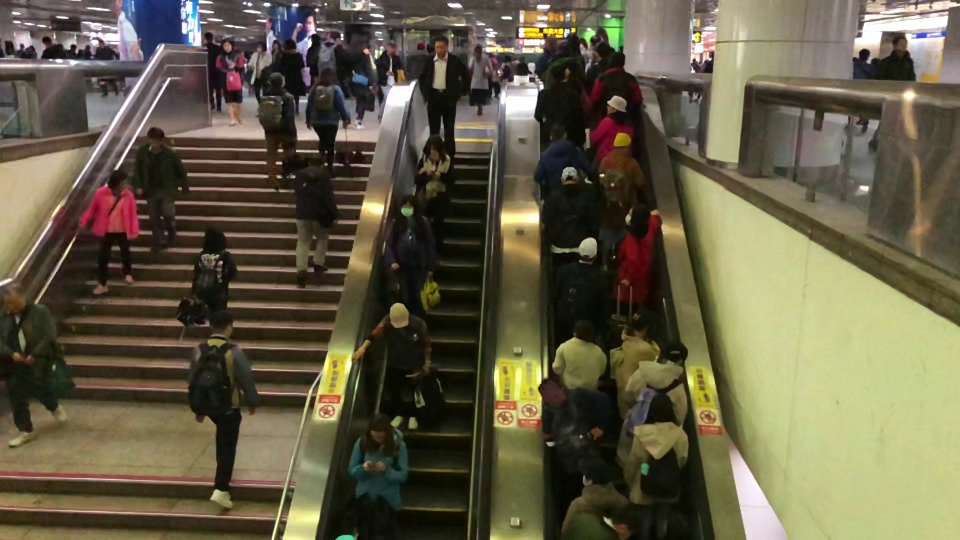person_head: (577, 455, 614, 485), (614, 504, 642, 539), (646, 394, 677, 424), (535, 377, 564, 408), (622, 203, 650, 232), (367, 413, 392, 445), (2, 282, 27, 313), (661, 339, 689, 364), (203, 225, 228, 251), (210, 309, 233, 335), (578, 236, 598, 263), (389, 301, 409, 327), (572, 318, 594, 341), (423, 134, 444, 158), (633, 309, 651, 337), (399, 193, 417, 218), (108, 169, 128, 190), (605, 94, 627, 113), (146, 126, 165, 147), (559, 165, 579, 184), (613, 132, 632, 151), (548, 122, 567, 140), (889, 36, 909, 53), (319, 65, 337, 83), (433, 34, 448, 55), (609, 51, 626, 69), (305, 151, 323, 167), (268, 70, 283, 88), (594, 42, 609, 59), (384, 39, 398, 55), (549, 67, 563, 83), (221, 37, 234, 53), (350, 34, 363, 50), (543, 36, 556, 51), (567, 34, 579, 49), (284, 38, 296, 51), (566, 65, 578, 78), (858, 49, 870, 62), (558, 41, 569, 55), (310, 33, 321, 46), (330, 29, 341, 41), (256, 40, 267, 51), (203, 30, 213, 42), (271, 39, 281, 51), (590, 33, 600, 45), (41, 35, 51, 46), (474, 44, 481, 54), (99, 39, 104, 48), (85, 43, 91, 49), (70, 44, 74, 51), (691, 57, 696, 62)
person_vbox: (186, 309, 260, 510), (0, 282, 68, 449), (351, 301, 432, 431), (613, 339, 687, 469), (623, 393, 689, 536), (76, 168, 140, 296), (535, 377, 611, 482), (347, 413, 409, 540), (135, 125, 190, 260), (383, 193, 436, 319), (599, 131, 645, 267), (293, 151, 338, 289), (418, 34, 468, 155), (559, 455, 631, 537), (608, 308, 659, 419), (869, 35, 916, 151), (613, 202, 662, 308), (541, 165, 592, 266), (413, 134, 455, 255), (304, 67, 350, 177), (557, 235, 611, 324), (258, 72, 296, 191), (191, 224, 238, 319), (532, 121, 591, 194), (551, 318, 607, 391), (586, 95, 634, 167), (589, 50, 644, 106), (347, 32, 377, 130), (566, 503, 645, 540), (216, 38, 246, 128), (535, 67, 580, 123), (376, 38, 402, 124), (281, 39, 307, 112), (468, 44, 493, 114), (203, 31, 223, 112), (247, 40, 272, 104), (851, 49, 872, 125), (546, 40, 582, 81), (318, 29, 348, 77), (95, 41, 120, 96), (535, 36, 562, 74), (586, 42, 610, 83), (688, 58, 701, 103), (41, 35, 65, 59), (305, 33, 320, 69), (84, 46, 94, 89)
